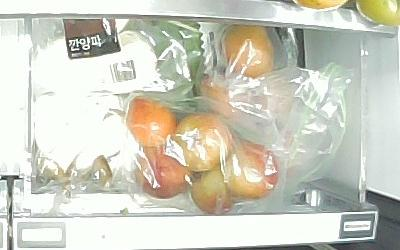prune_vinyl: (172, 111, 231, 171), (223, 144, 280, 200), (220, 25, 274, 76), (134, 148, 188, 199), (128, 94, 176, 149), (202, 71, 247, 120), (192, 166, 237, 215)
